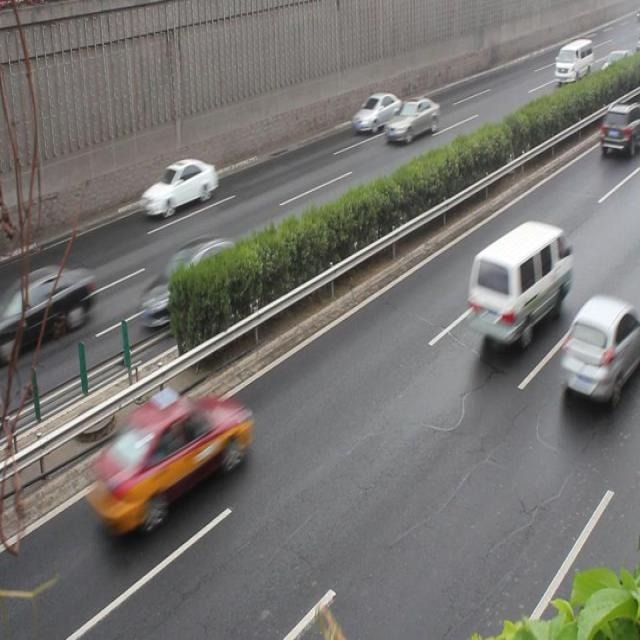car: (92, 391, 248, 529), (138, 236, 246, 328), (559, 295, 640, 407), (10, 261, 93, 341), (141, 158, 218, 219), (384, 95, 438, 144), (598, 100, 640, 160), (353, 91, 402, 134)
truck: (466, 221, 570, 347)
